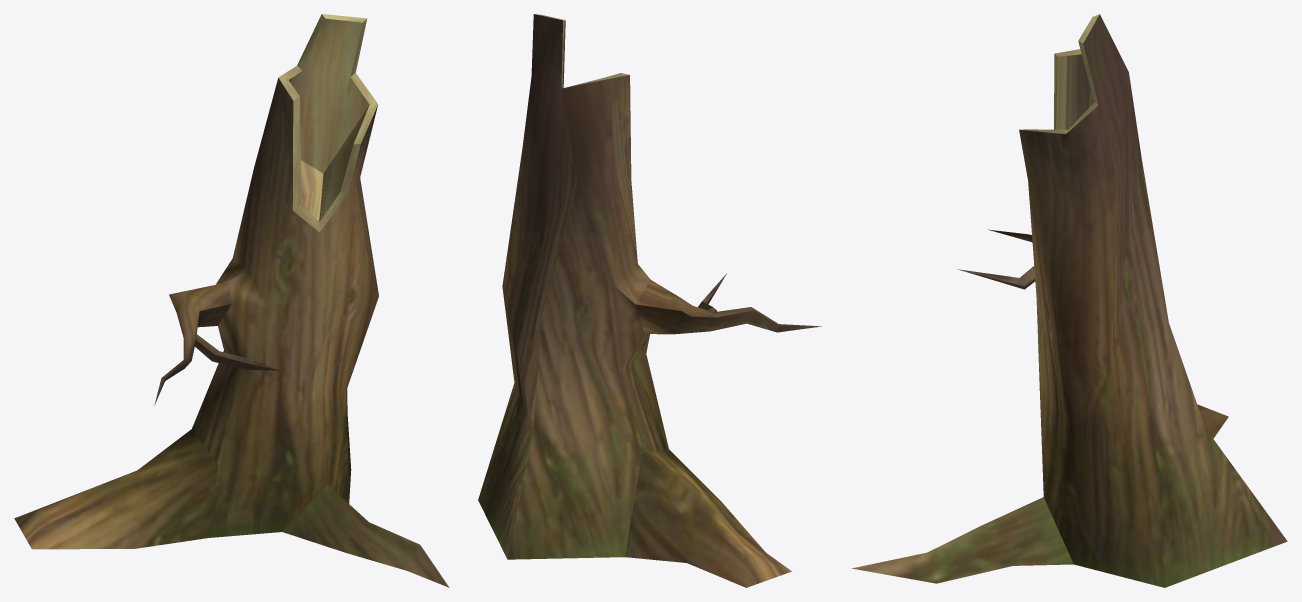
The model's file is map_112_shu_4.fbx.
3 views of the same model, side by side, from view 1: azimuth 30°, elevation 25°; view 2: azimuth 150°, elevation 25°; view 3: azimuth 270°, elevation 25° (orthographic). The views are drawn at different scales.
Visible parts, largest first — view 1: map_112_shu_4; view 2: map_112_shu_4; view 3: map_112_shu_4.
Part boxes in pixels (x1,y1,x2,y2): map_112_shu_4: (14,14,449,587); map_112_shu_4: (478,14,821,587); map_112_shu_4: (851,14,1287,587).
Size of the model in its own units: 1.33 by 1.96 by 1.41.
